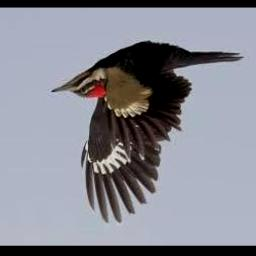Woodpecker: (50, 43, 244, 223)
